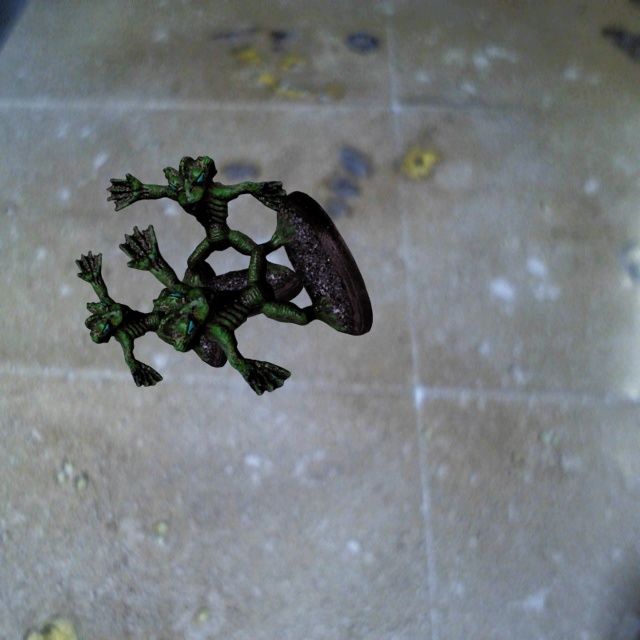pieza_juego: (119, 191, 372, 395), (106, 156, 303, 325), (75, 251, 229, 386)
